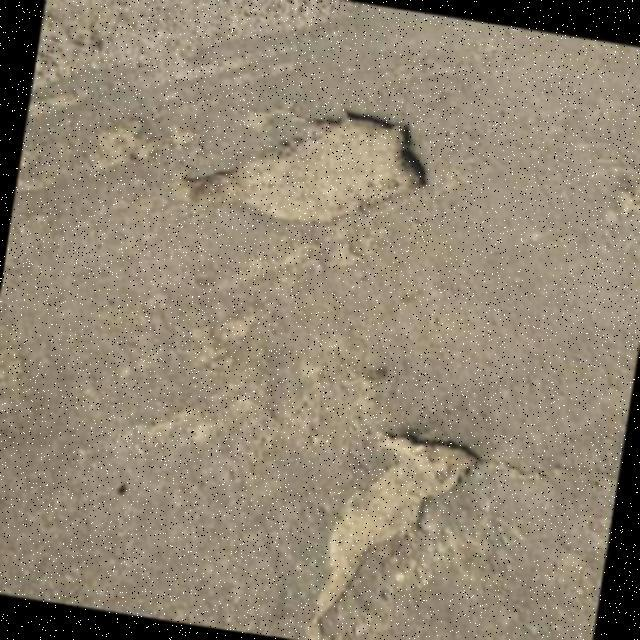Pothole: (306, 434, 482, 640), (181, 112, 429, 221)
